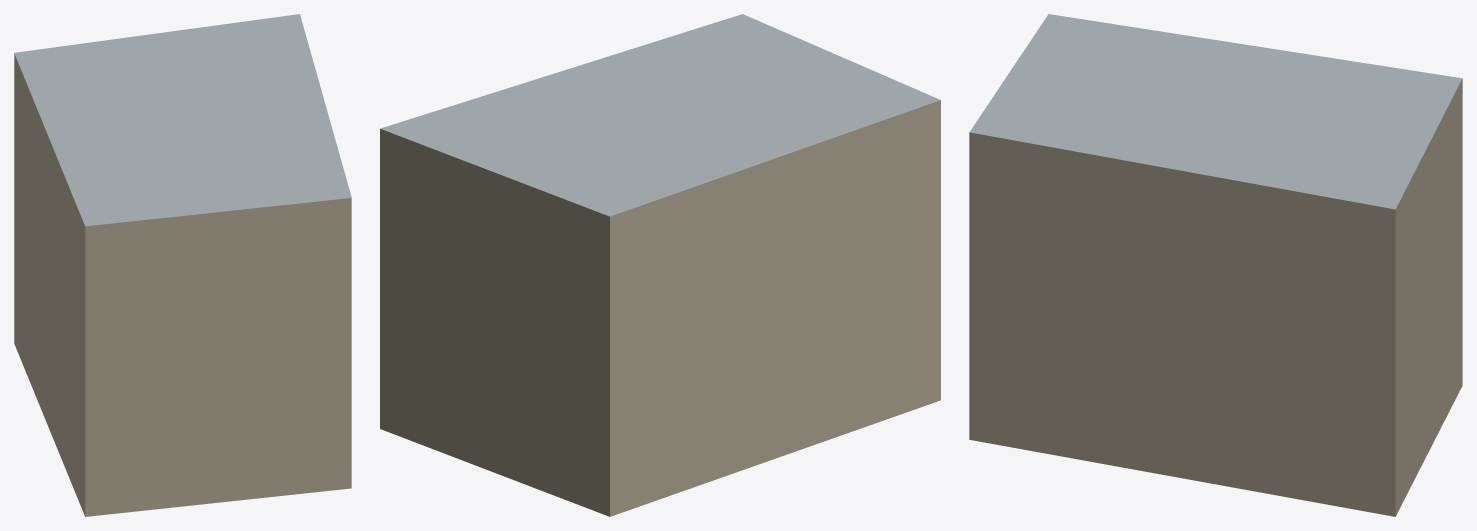
3 views of the same model, side by side, from view 1: azimuth 30°, elevation 25°; view 2: azimuth 150°, elevation 25°; view 3: azimuth 270°, elevation 25° (orthographic). The views are drawn at different scales.
Visible parts, largest first — view 1: tuile; view 2: tuile; view 3: tuile.
Part boxes in pixels (box(x1,y1,x2,y2)): tuile: box(14, 14, 351, 516); tuile: box(380, 14, 940, 516); tuile: box(969, 14, 1462, 516).
Size of the model in its own units: 7.6 by 5.57 by 8.1.
